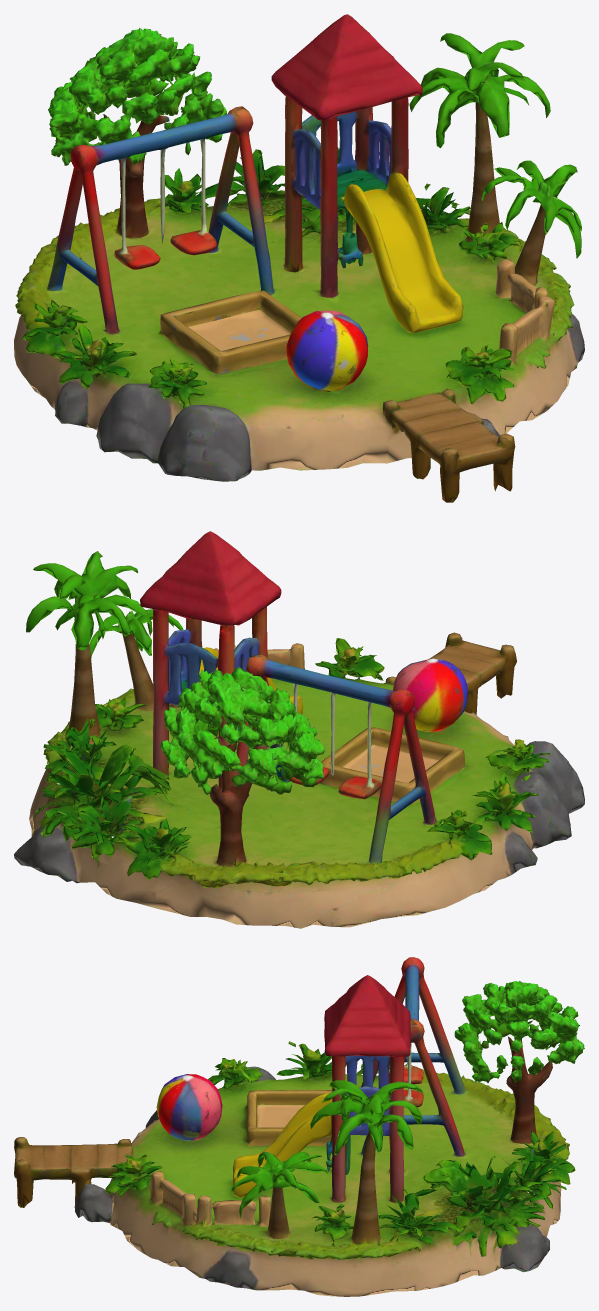
The model's file is isl-06.glb.
3 views of the same model, one above another, from view 1: azimuth 30°, elevation 25°; view 2: azimuth 150°, elevation 25°; view 3: azimuth 270°, elevation 25° (orthographic). The views are drawn at different scales.
Parts seen in each view (by area): view 1: world; view 2: world; view 3: world.
Boxes of the visible parts, bbox=[...] form: world: bbox=[14, 14, 584, 502]; world: bbox=[14, 531, 584, 928]; world: bbox=[14, 957, 584, 1296].
Bounding box in the file's own units: 0.828 × 0.4837 × 0.9927.
1 material, 1 textured.
